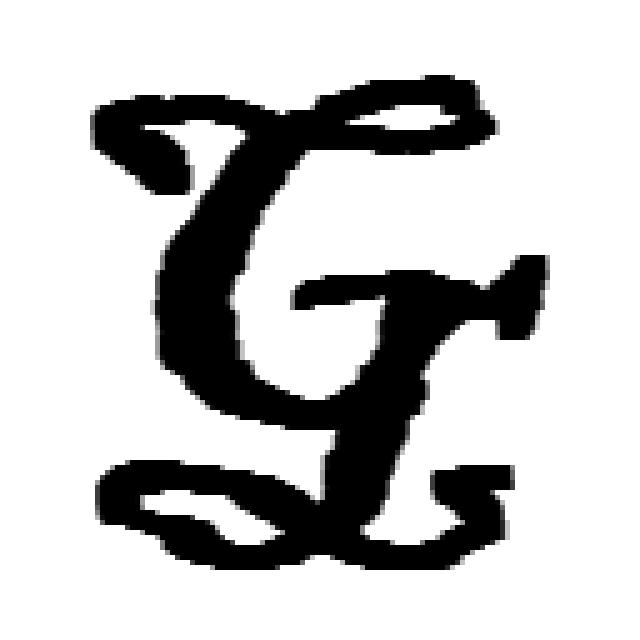G: (150, 72, 552, 575)
